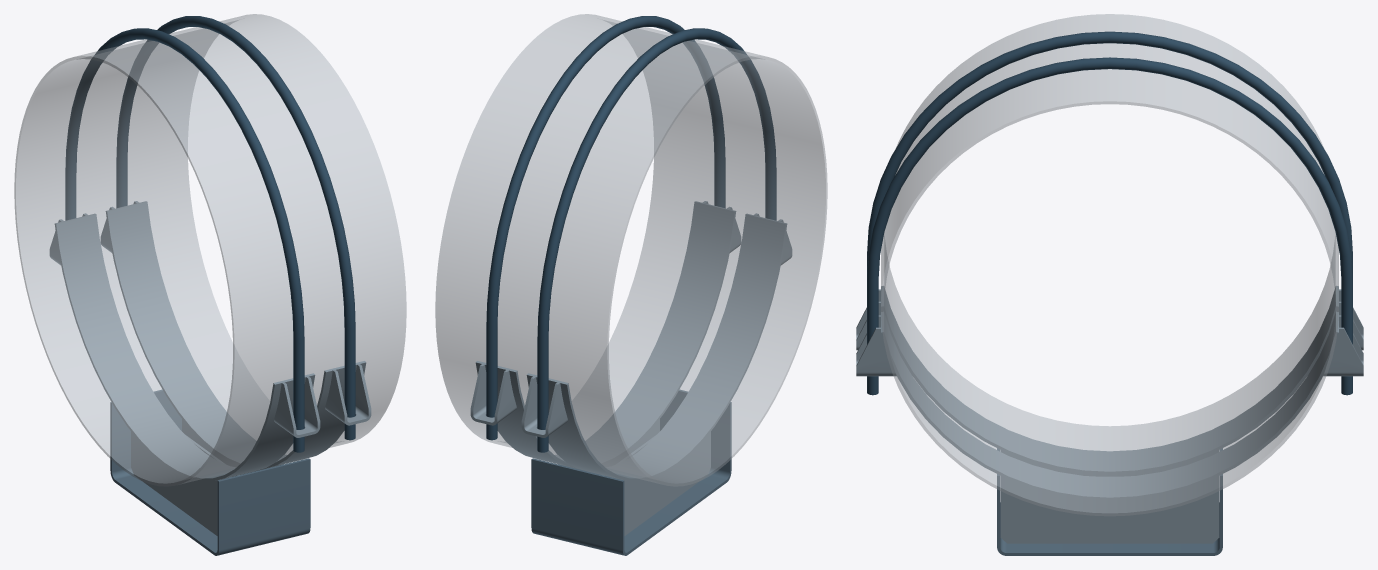
Rendered from TS-626.00.000-080-opora-dn1420-H200-L340.glb.
The picture shows the model from 3 angles, left to right: view 1: azimuth 30°, elevation 25°; view 2: azimuth 150°, elevation 25°; view 3: azimuth 270°, elevation 25°; orthographic projection. The views are drawn at different scales.
Visible parts, largest first — view 1: truba, podushka_4, podushka_5, skoba_0, homut_0, homut_1, rebro4_1, ushko_9, ushko_7; view 2: truba, podushka_4, podushka_5, skoba_0, homut_0, homut_1, rebro4_1, ushko_8, ushko_6; view 3: truba, podushka_5, rebro4_2, podushka_4, homut_1, homut_0, skoba_0, ushko_8, ushko_9, rebro4_1.
Part boxes in pixels (bbox=[...]): truba: bbox=[14, 14, 406, 486]; podushka_4: bbox=[54, 213, 315, 481]; podushka_5: bbox=[105, 201, 366, 468]; skoba_0: bbox=[110, 389, 310, 555]; homut_0: bbox=[65, 28, 304, 452]; homut_1: bbox=[116, 16, 355, 440]; rebro4_1: bbox=[131, 432, 229, 535]; ushko_9: bbox=[325, 364, 371, 425]; ushko_7: bbox=[274, 376, 320, 437]; truba: bbox=[435, 14, 827, 486]; podushka_4: bbox=[526, 213, 787, 481]; podushka_5: bbox=[475, 201, 736, 468]; skoba_0: bbox=[531, 389, 731, 555]; homut_0: bbox=[537, 28, 776, 452]; homut_1: bbox=[486, 16, 725, 440]; rebro4_1: bbox=[612, 432, 710, 535]; ushko_8: bbox=[470, 364, 516, 425]; ushko_6: bbox=[521, 376, 567, 437]; truba: bbox=[881, 14, 1338, 516]; podushka_5: bbox=[881, 311, 1338, 500]; rebro4_2: bbox=[1000, 476, 1219, 543]; podushka_4: bbox=[881, 286, 1338, 474]; homut_1: bbox=[867, 57, 1352, 395]; homut_0: bbox=[867, 31, 1352, 276]; skoba_0: bbox=[997, 448, 1222, 555]; ushko_8: bbox=[1323, 315, 1363, 376]; ushko_9: bbox=[856, 315, 896, 376]; rebro4_1: bbox=[1000, 450, 1219, 476].
Size of the model in its own units: 640 by 1668 by 1572.
